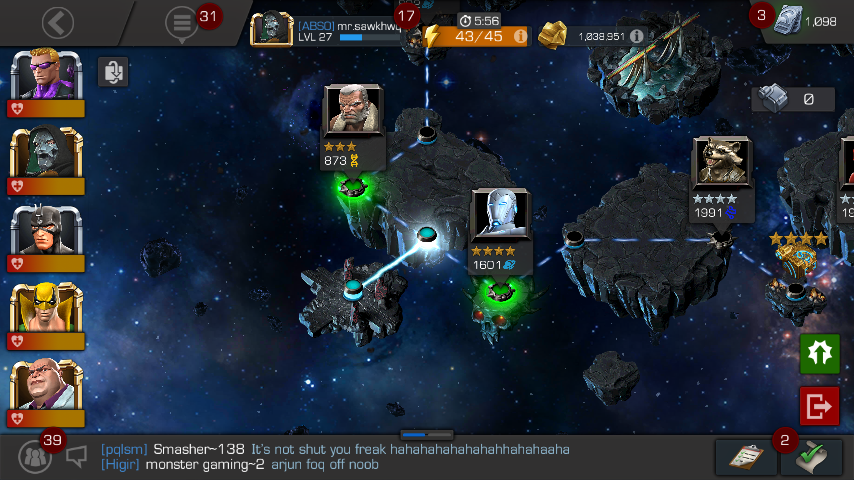green: (488, 282, 516, 303), (339, 178, 368, 198)
